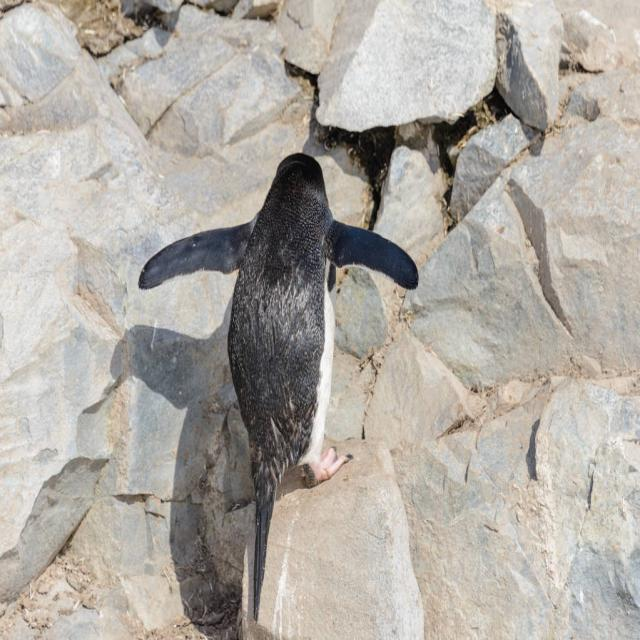Penguins: (207, 145, 356, 532)
